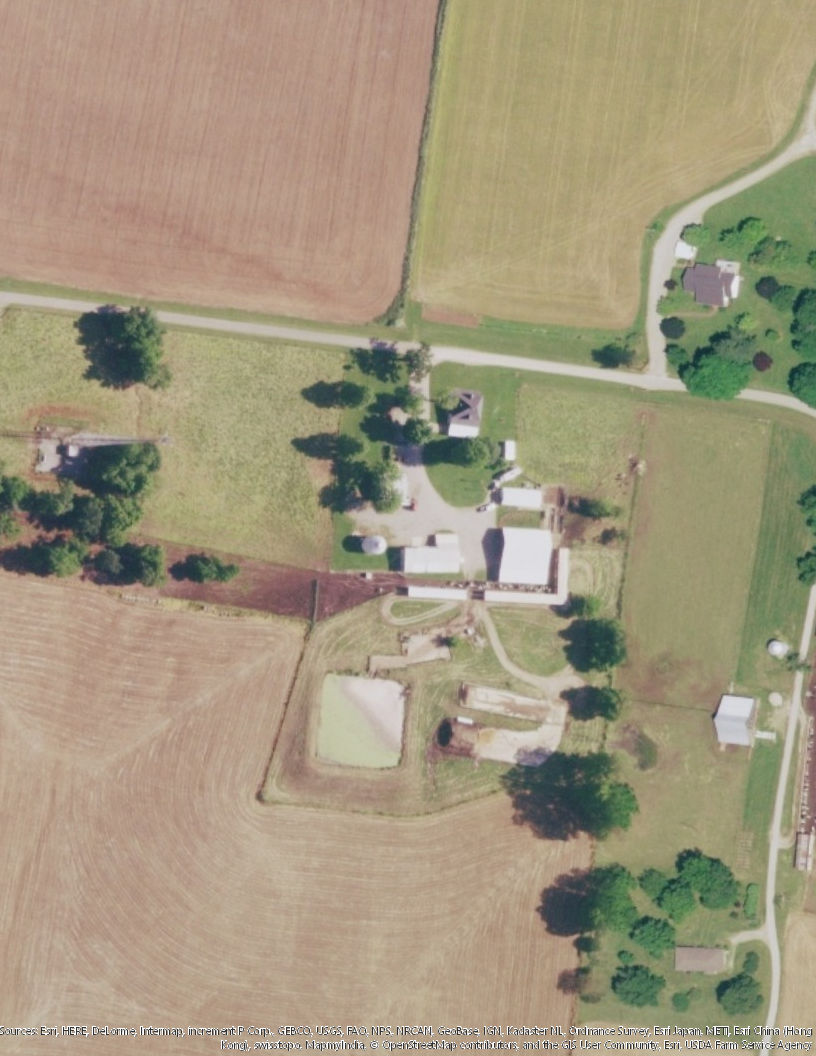cafo: (480, 520, 575, 612), (390, 520, 474, 605), (496, 481, 554, 512)
